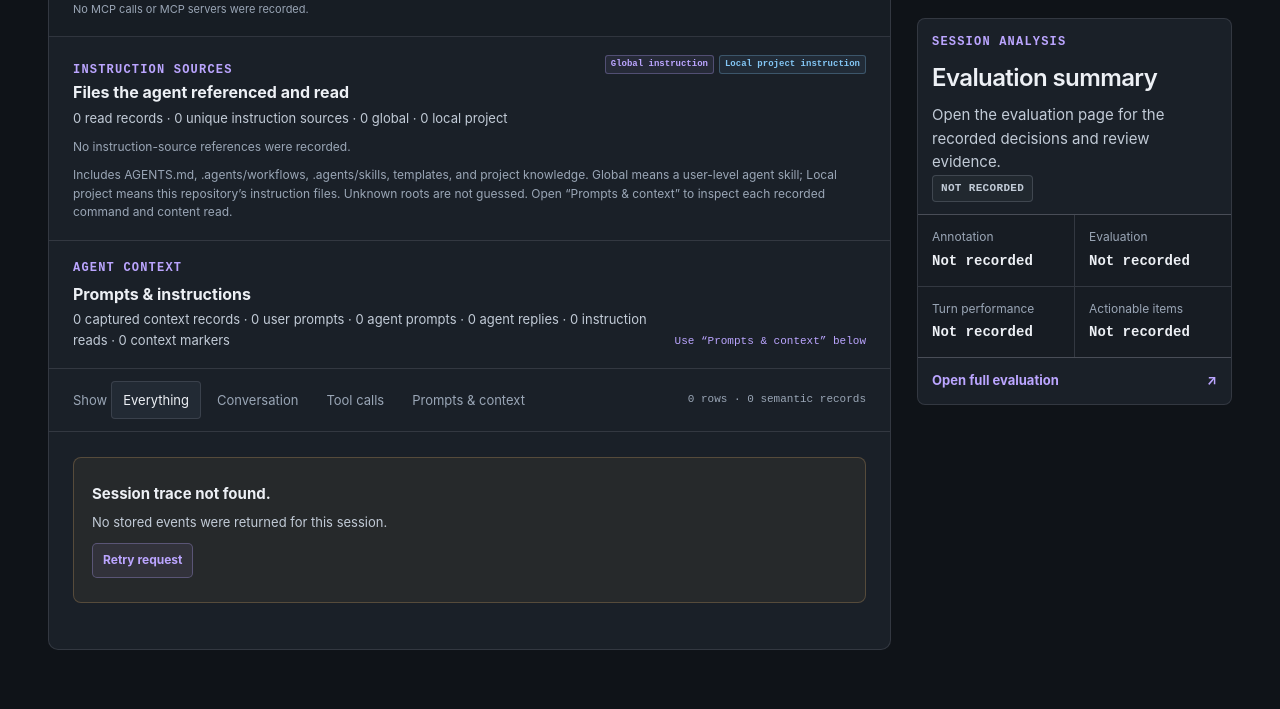
authenticated sessions flow › shows a missing trace state and retries the selected session request
(page scrolled)
Check: the text "Session trace not found." is shown, box [92,484,271,503]
Click the button "Retry request".
click(143, 561)  # box [92,543,194,578]
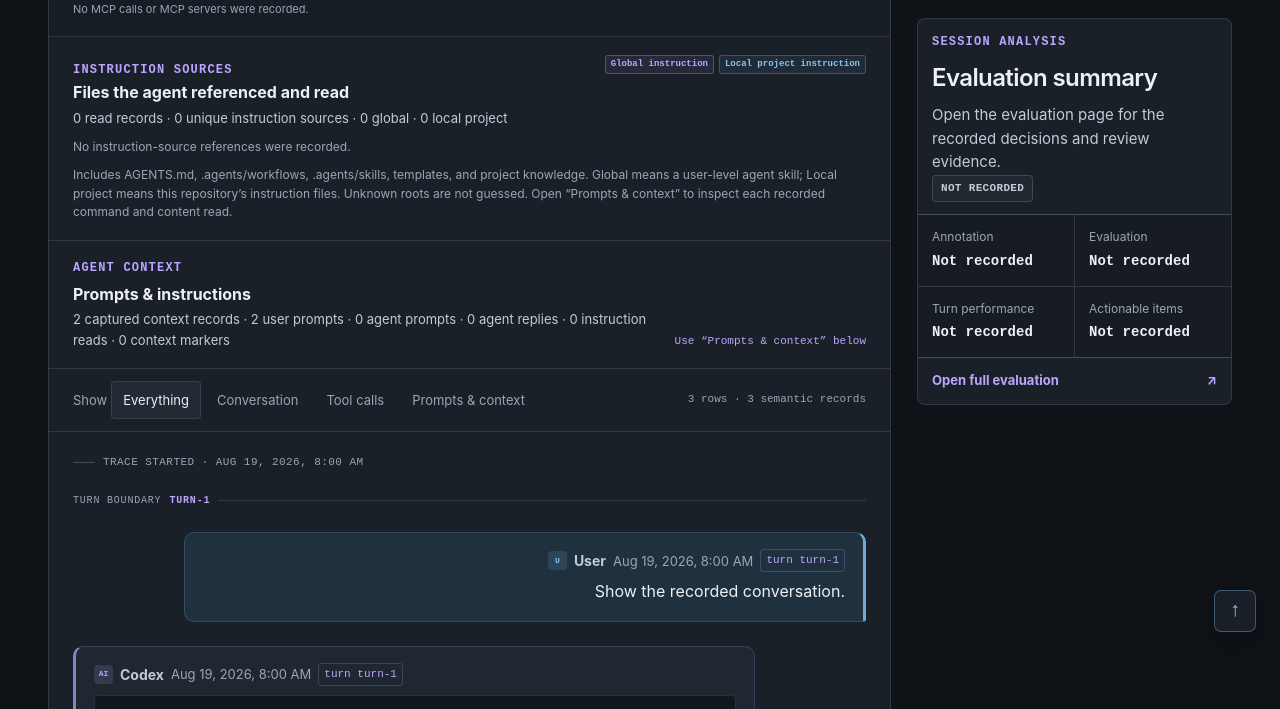
Check: the text "Show the recorded conversation." is shown, box [595,582,845,602]
